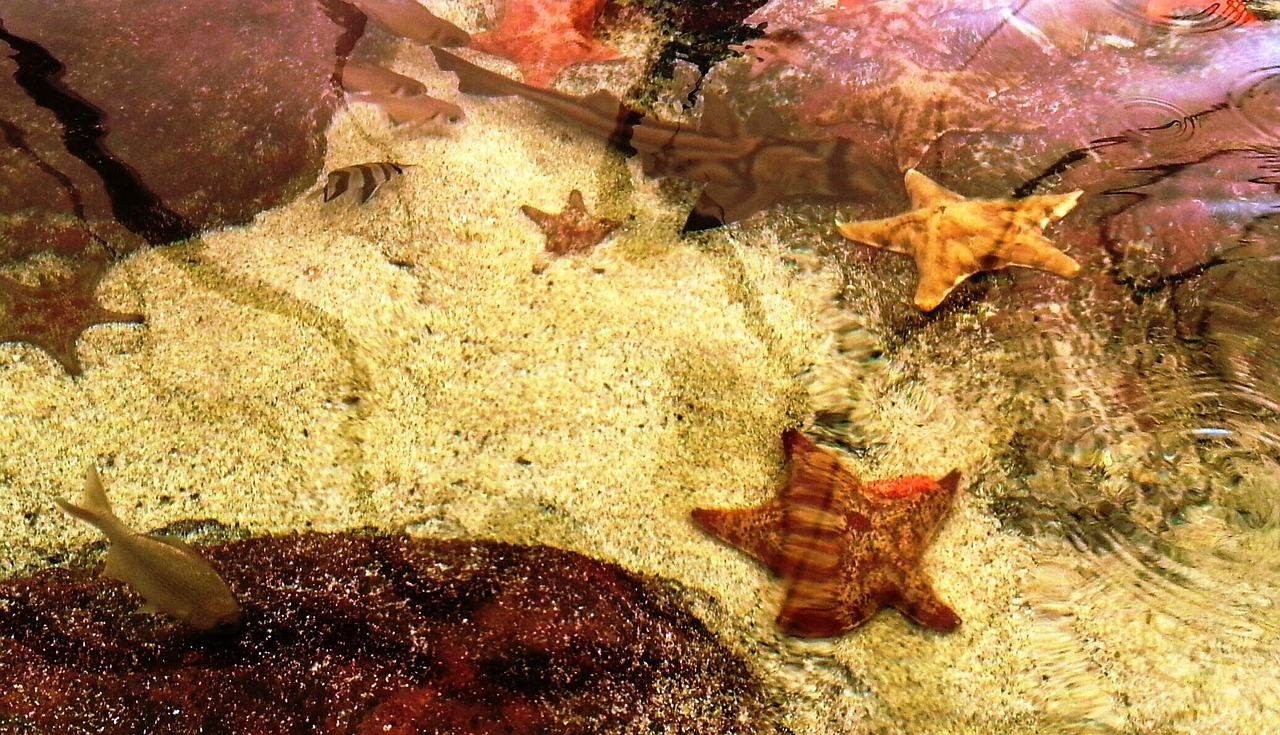fish: (422, 36, 902, 239), (43, 476, 265, 664), (339, 81, 489, 151), (309, 150, 419, 221)
starfish: (695, 426, 976, 656), (833, 157, 1103, 320), (510, 193, 645, 301)
